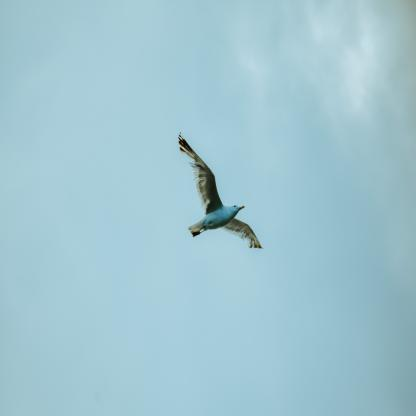bird: (181, 134, 261, 250)
